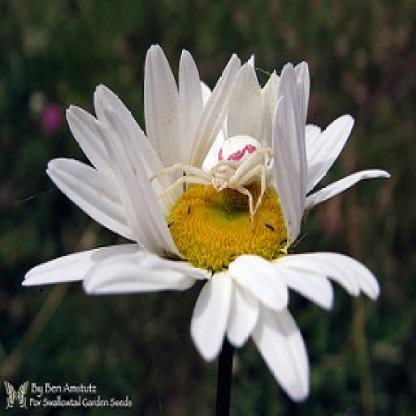ASTER: (29, 22, 398, 398)
